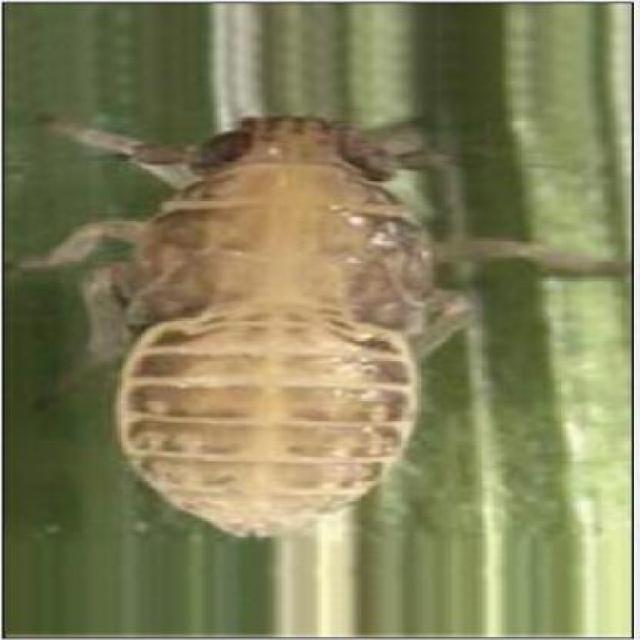brown-planthopper: (112, 110, 445, 538)
